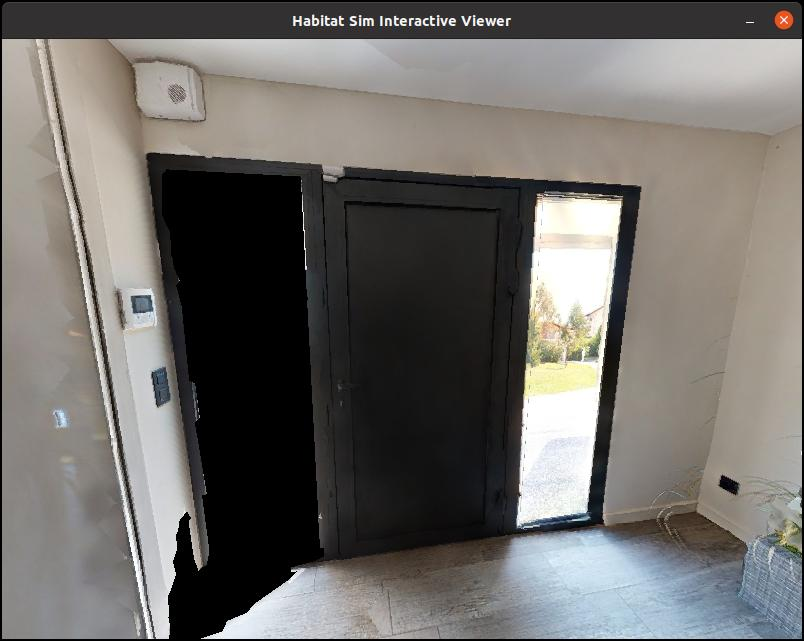door: (325, 192, 520, 555)
